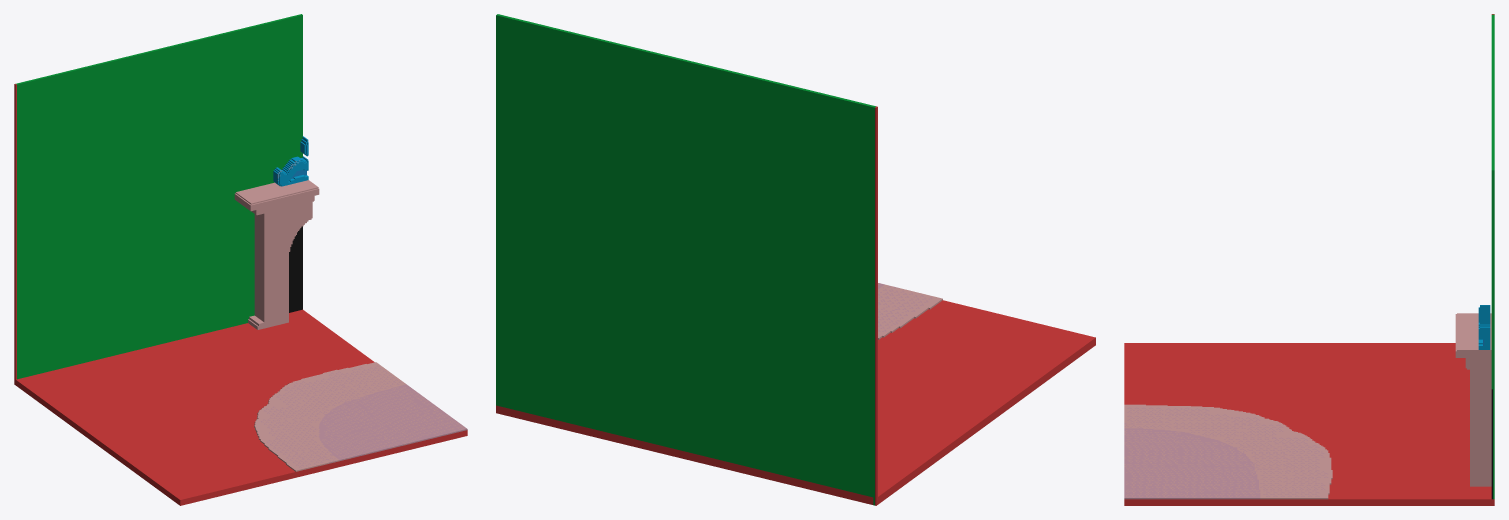
File: goodnight-moon-30-background-left.obj
The picture shows the model from 3 angles, left to right: view 1: azimuth 30°, elevation 25°; view 2: azimuth 150°, elevation 25°; view 3: azimuth 270°, elevation 25°; orthographic projection. The views are drawn at different scales.
Visible parts, largest first — view 1: background-left; view 2: background-left; view 3: background-left.
Part boxes in pixels (left/top/right/bottom): background-left: left=14, top=14, right=467, bottom=505; background-left: left=496, top=14, right=1095, bottom=505; background-left: left=1124, top=14, right=1494, bottom=505.
Bounding box in the file's own units: 25.6 × 25.6 × 25.6.
1 material, 1 textured.
